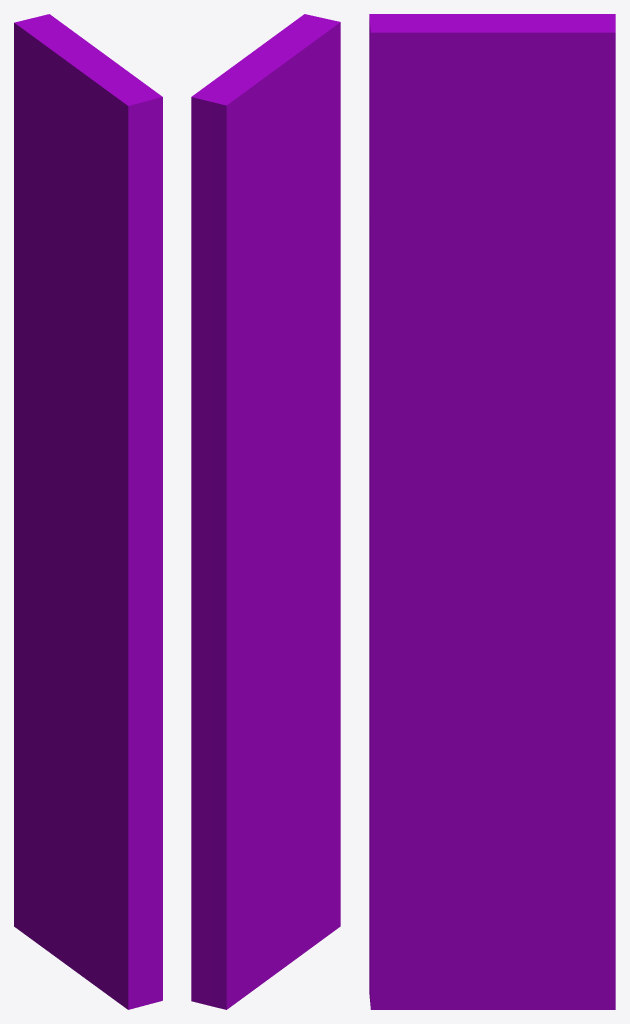
File: simple_example_hole_part_75.obj
3 views of the same model, side by side, from view 1: azimuth 30°, elevation 25°; view 2: azimuth 150°, elevation 25°; view 3: azimuth 270°, elevation 25° (orthographic). The views are drawn at different scales.
Size of the model in its own units: 2.98 by 72.79 by 16.65.
